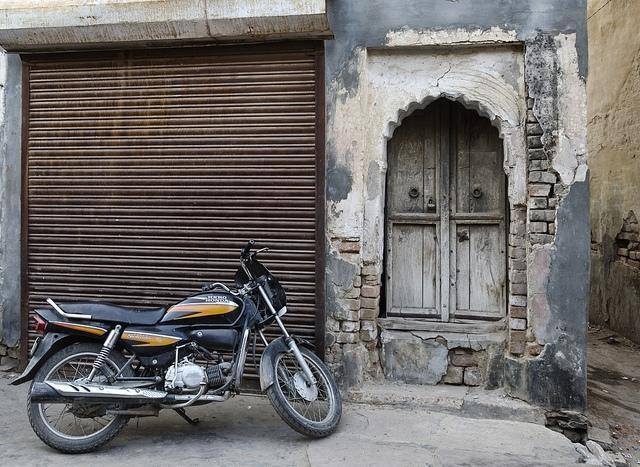motorcycle: (5, 238, 344, 454)
